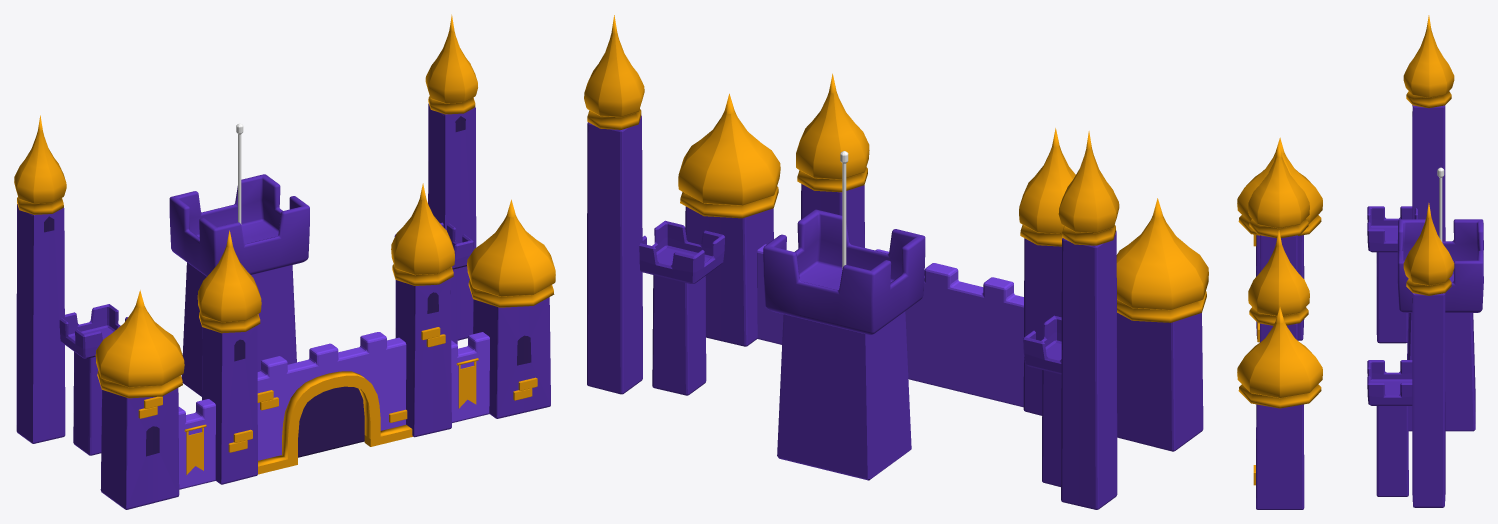
The model's file is Castle_02.fbx.
3 views of the same model, side by side, from view 1: azimuth 30°, elevation 25°; view 2: azimuth 150°, elevation 25°; view 3: azimuth 270°, elevation 25° (orthographic). The views are drawn at different scales.
Parts seen in each view (by area): view 1: Castle_02; view 2: Castle_02; view 3: Castle_02.
Part boxes in pixels (x1,y1,x2,y2): Castle_02: (14,14,555,509); Castle_02: (584,15,1208,509); Castle_02: (1237,15,1483,509).
Bounding box in the file's own units: 23.9 × 16.3 × 11.92.
